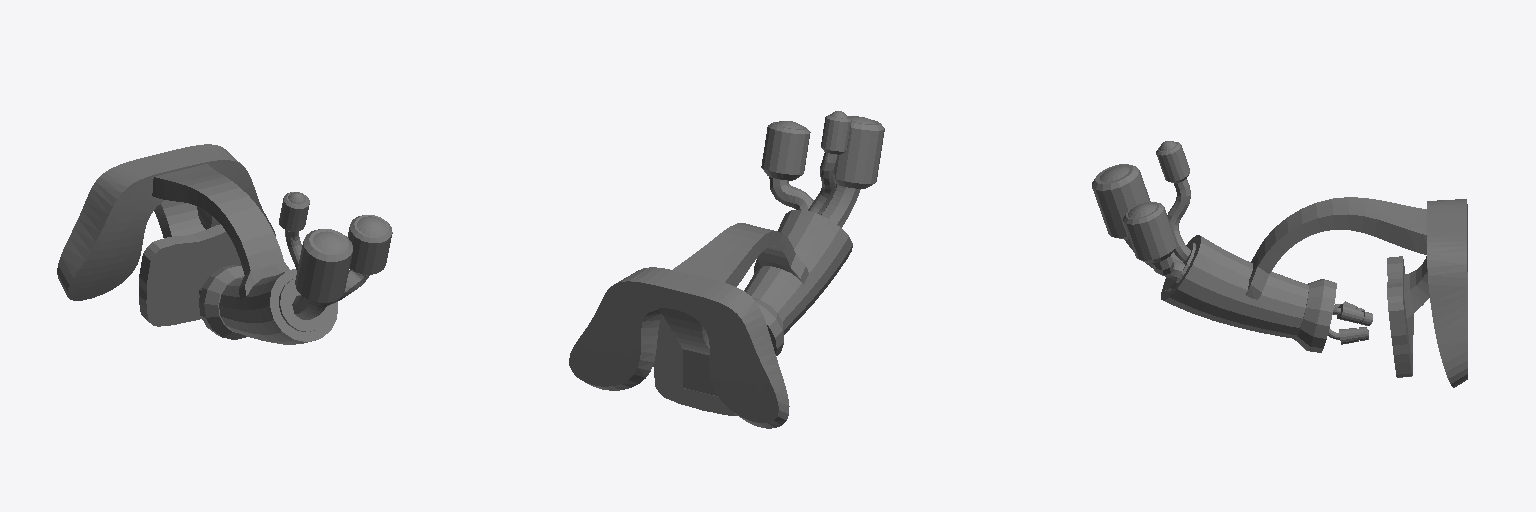
Rendered from Microscope.obj.
The picture shows the model from 3 angles: view 1: azimuth 30°, elevation 25°; view 2: azimuth 150°, elevation 25°; view 3: azimuth 270°, elevation 25°; orthographic projection.
Parts seen in each view (by area): view 1: Microscope; view 2: Microscope; view 3: Microscope.
Part boxes in pixels (left/top/right/bottom): Microscope: left=57, top=144, right=392, bottom=344; Microscope: left=569, top=111, right=884, bottom=428; Microscope: left=1092, top=141, right=1467, bottom=387.
Bounding box in the file's own units: 887 × 865 × 1375.